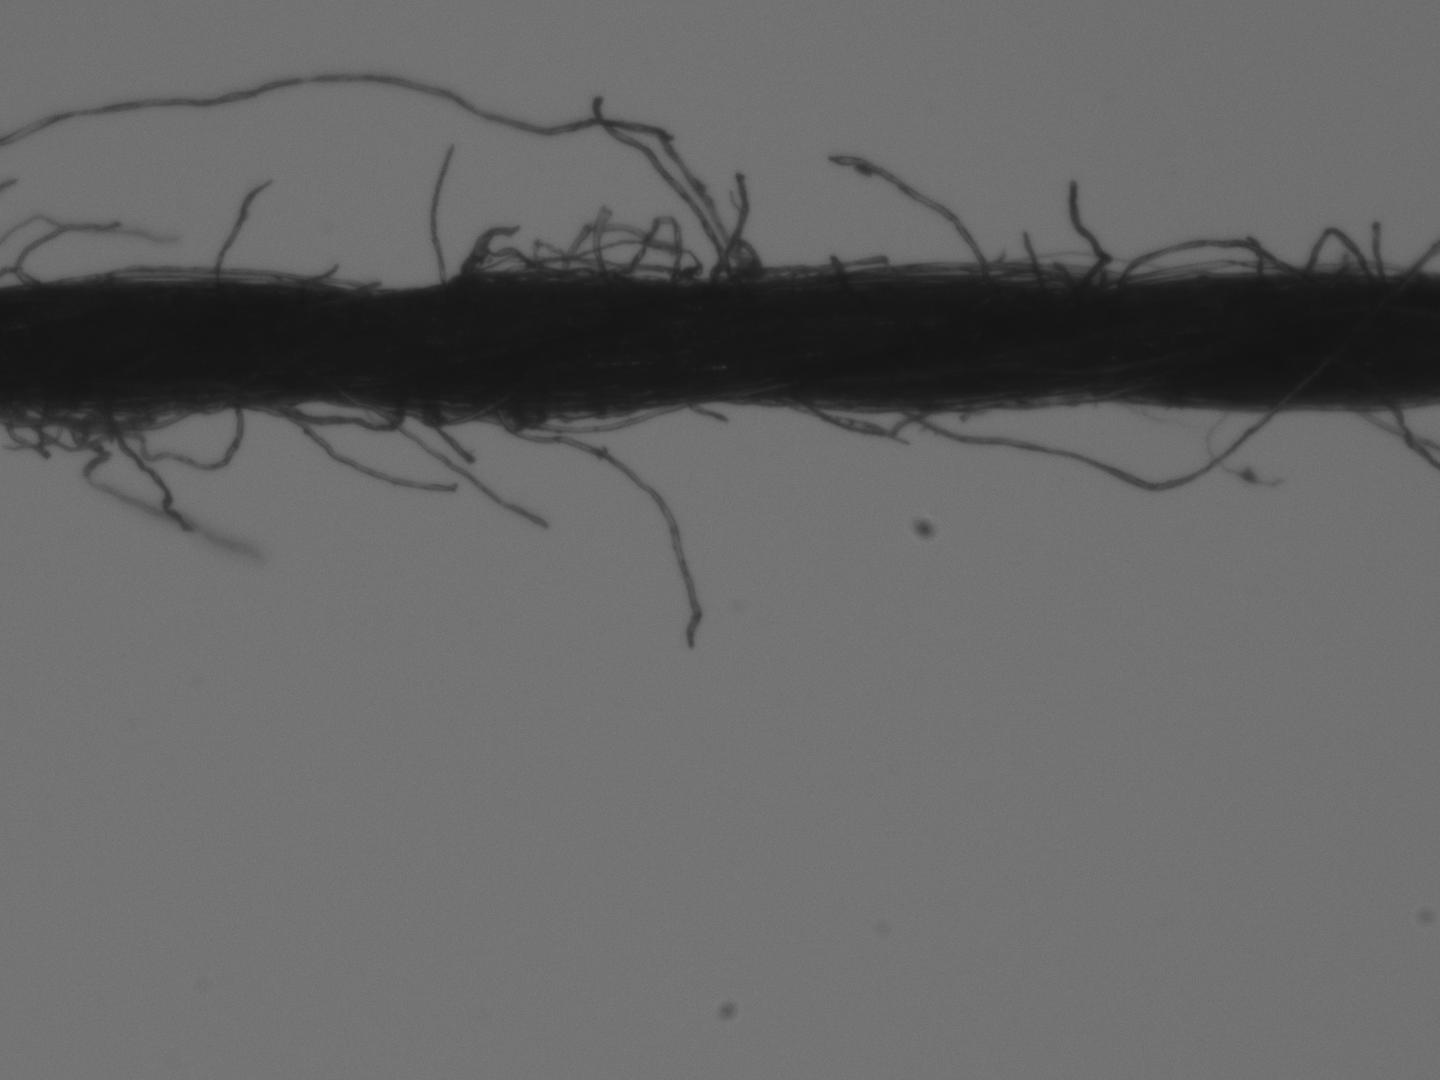loop_fiber: (1113, 228, 1371, 282), (14, 399, 175, 454), (564, 219, 703, 281), (458, 228, 599, 279), (139, 403, 245, 471), (409, 382, 533, 430), (607, 211, 686, 285), (263, 396, 403, 437), (803, 402, 949, 436), (728, 242, 768, 285)
protruding_fiber: (513, 417, 702, 657), (369, 400, 552, 533), (829, 155, 986, 277), (280, 397, 456, 492), (214, 172, 278, 286), (429, 145, 457, 286), (1024, 230, 1041, 285)
